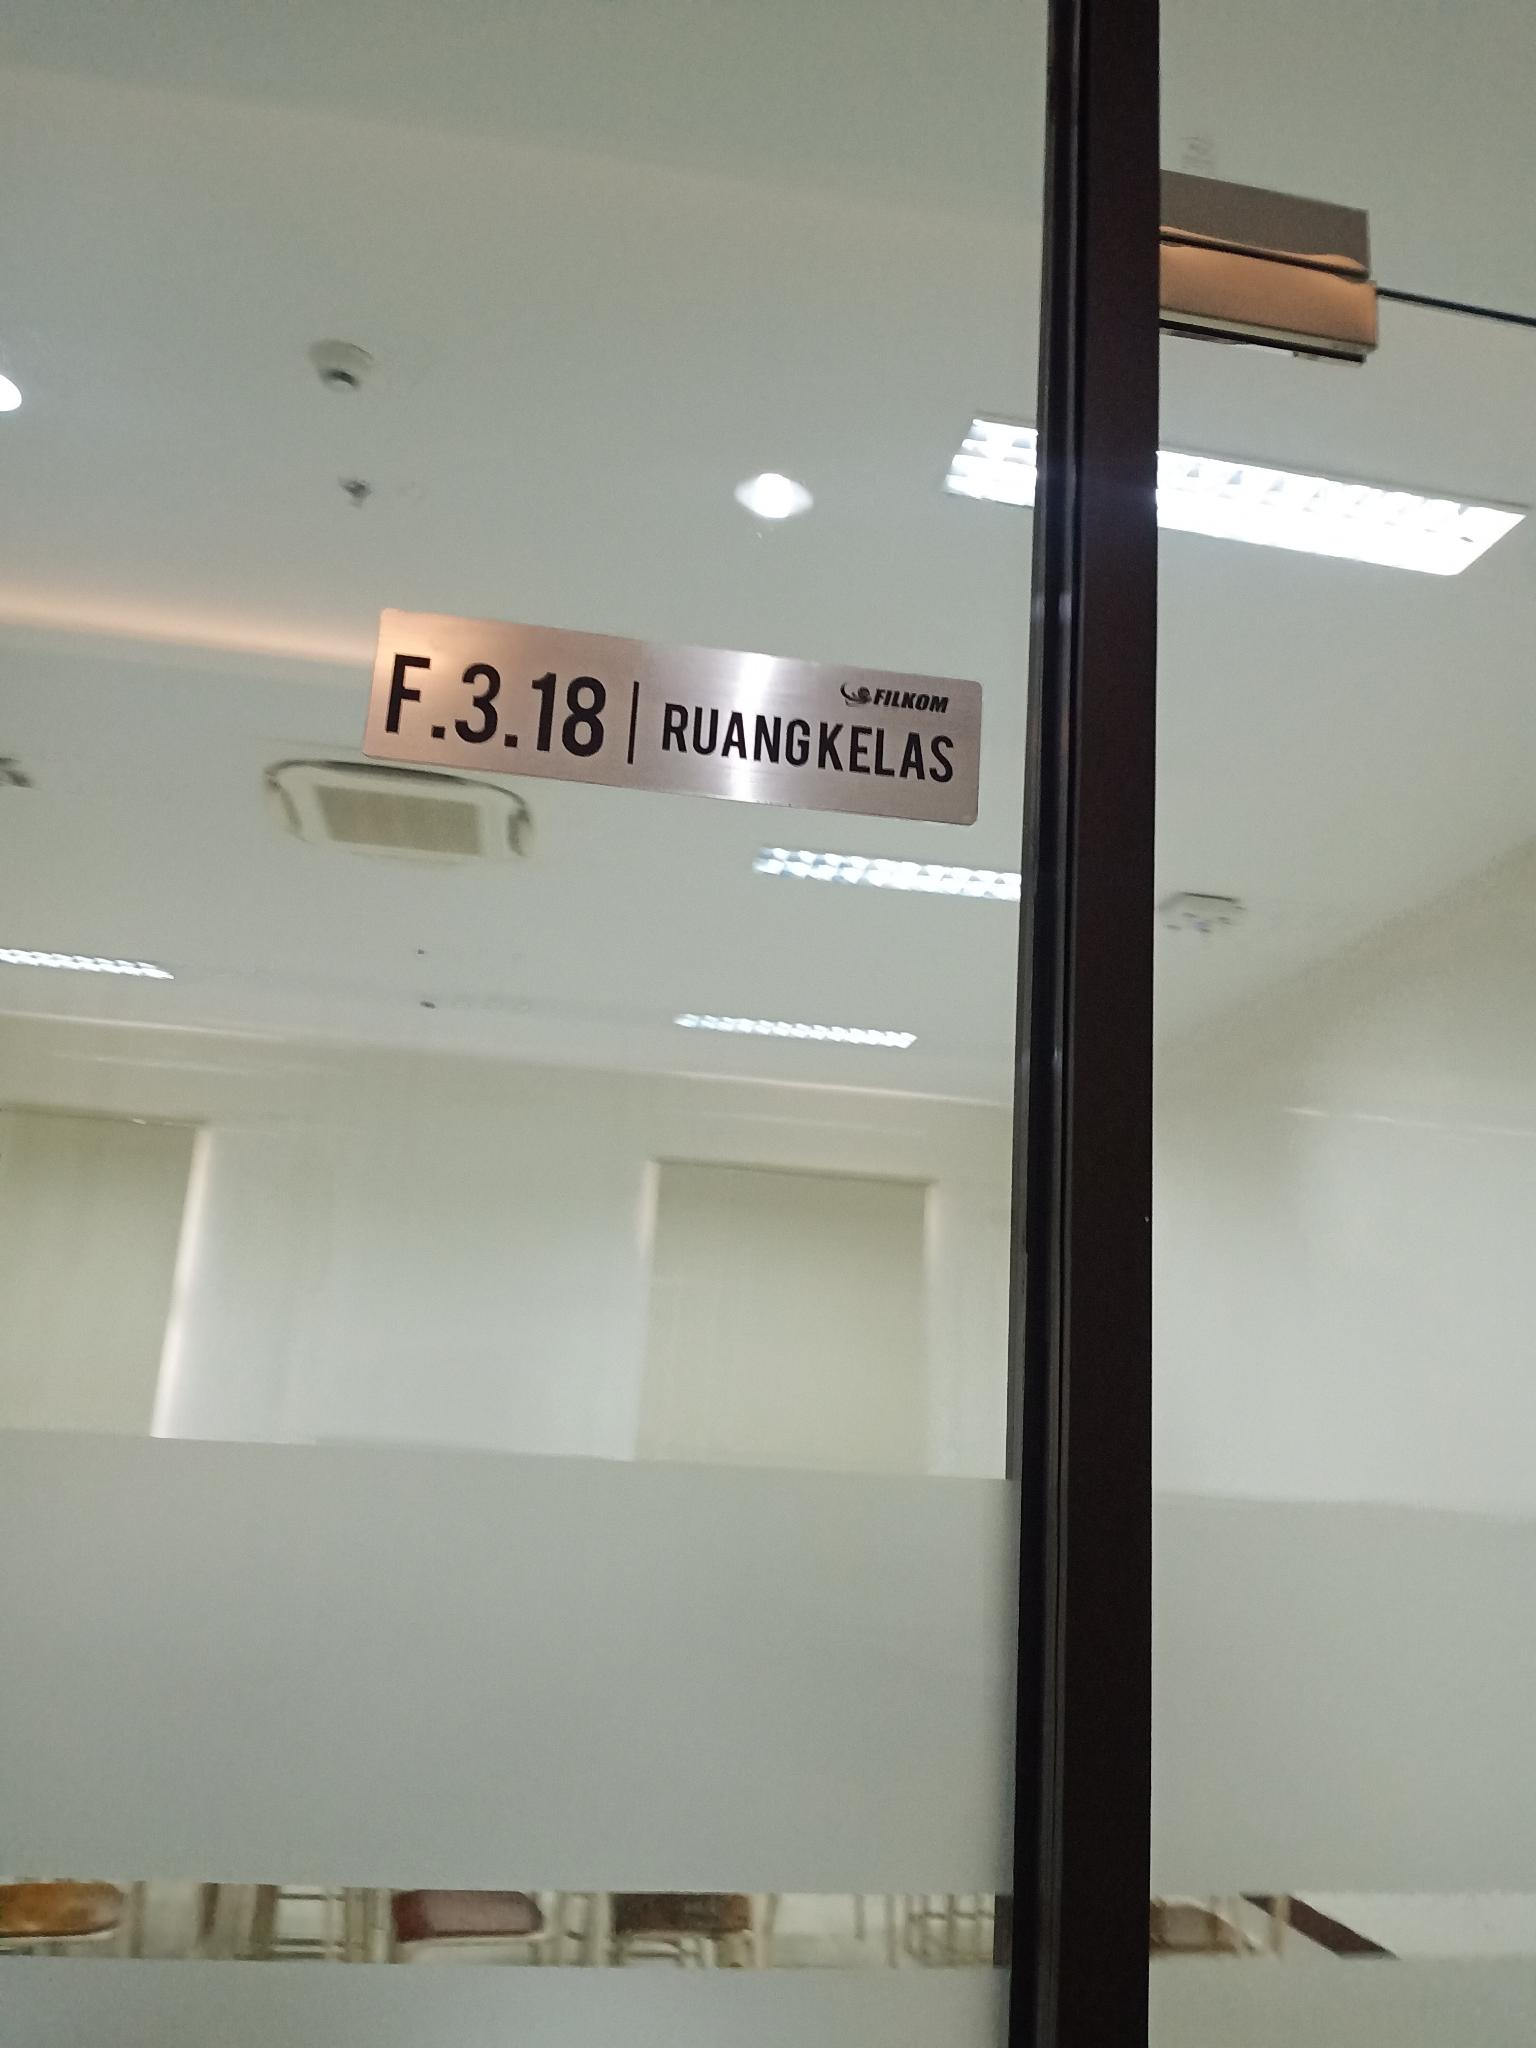plate: (363, 606, 984, 827)
